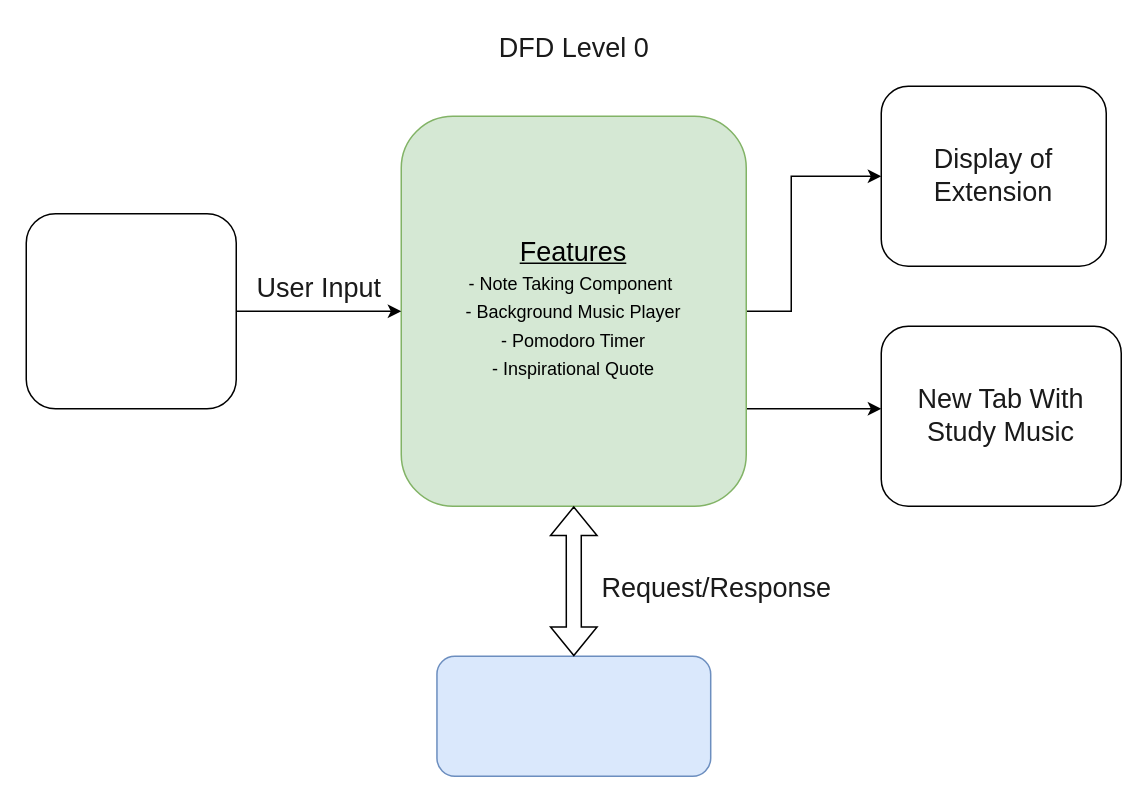
The diagram is 1148 pixels wide and 803 high, and some of its shapes have lost their labels. The shapes that lost their labels are listed below. From the top down, each one's centre as x and y in pixels, then its label:
pixel 130 310: User
pixel 573 715: Type Fit Quotes API
